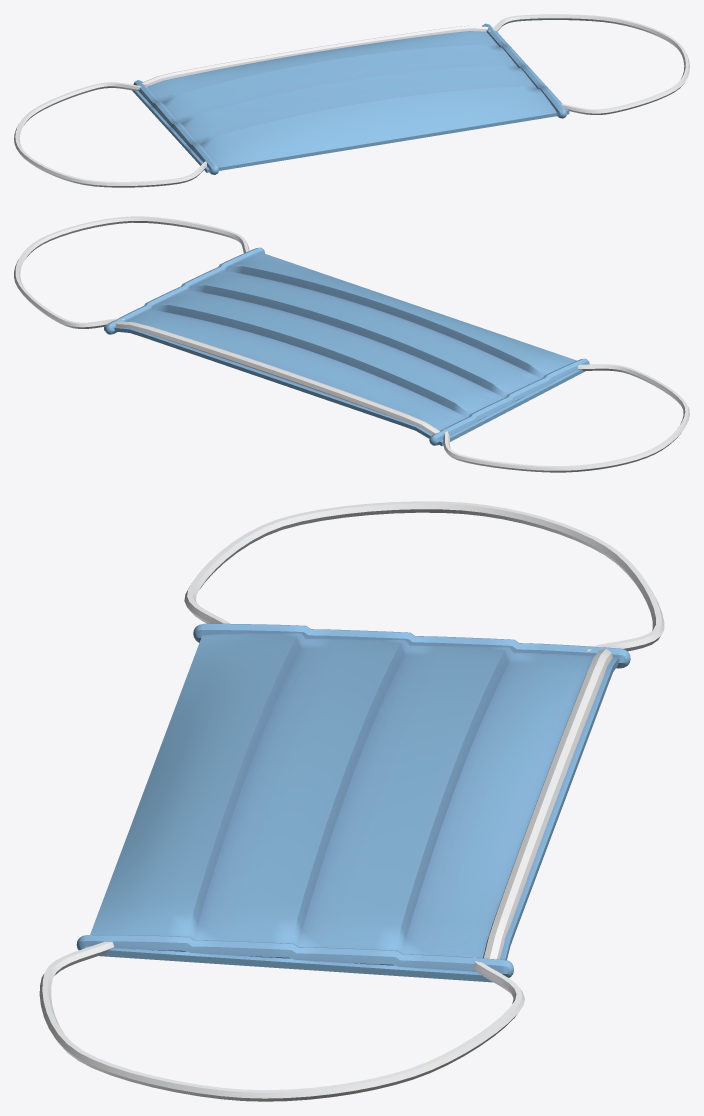
Rendered from cloth_face_mask_wearable.glb.
The picture shows the model from 3 angles, top to bottom: view 1: azimuth 30°, elevation 25°; view 2: azimuth 150°, elevation 25°; view 3: azimuth 270°, elevation 25°; orthographic projection. The views are drawn at different scales.
Parts seen in each view (by area): view 1: face-mask_body; view 2: face-mask_body; view 3: face-mask_body.
Part boxes in pixels (x1=…): face-mask_body: x1=14, y1=14, x2=689, y2=187; face-mask_body: x1=14, y1=216, x2=689, y2=472; face-mask_body: x1=39, y1=501, x2=664, y2=1101.
Size of the model in its own units: 0.3167 by 0.0128 by 0.1408.
1 material, 1 textured.
